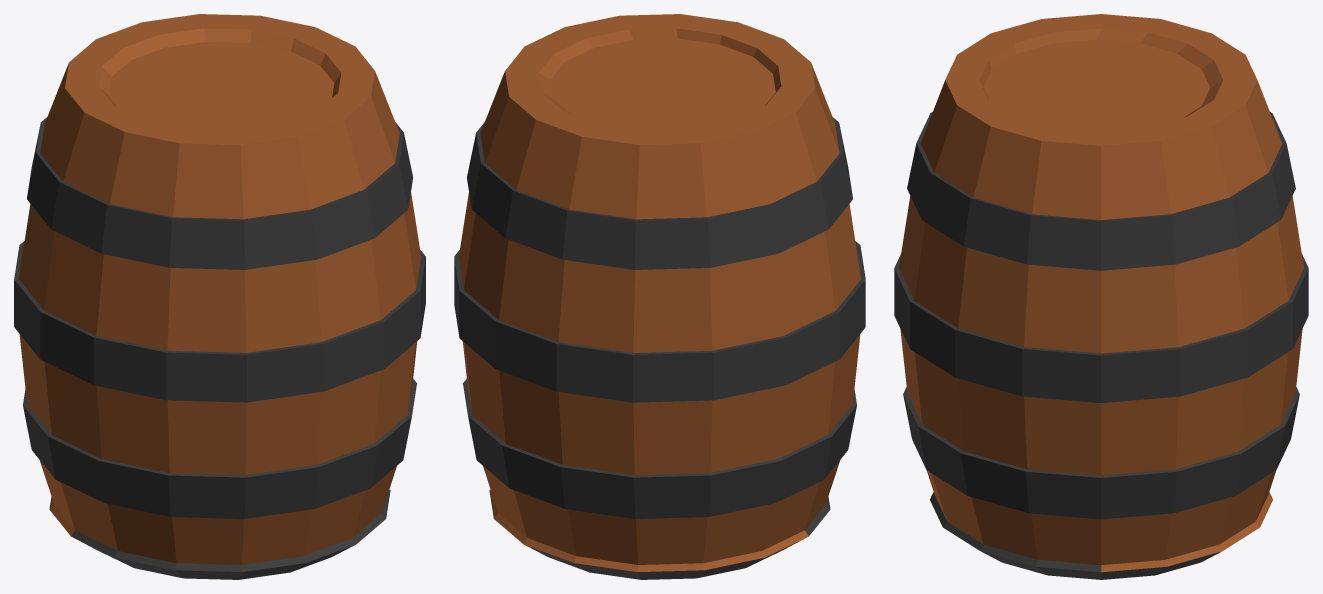
The model's file is Barrel.fbx.
3 renders of one model, left to right at view 1: azimuth 30°, elevation 25°; view 2: azimuth 150°, elevation 25°; view 3: azimuth 270°, elevation 25°, orthographic.
Visible parts, largest first — view 1: Barrel; view 2: Barrel; view 3: Barrel.
Part boxes in pixels (x1=…): Barrel: x1=14, y1=14, x2=425, y2=579; Barrel: x1=454, y1=14, x2=865, y2=579; Barrel: x1=894, y1=14, x2=1308, y2=579.
Size of the model in its own units: 194 by 228 by 194.
